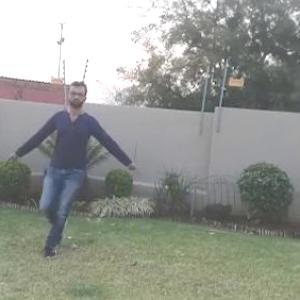land: (11, 84, 130, 248)
